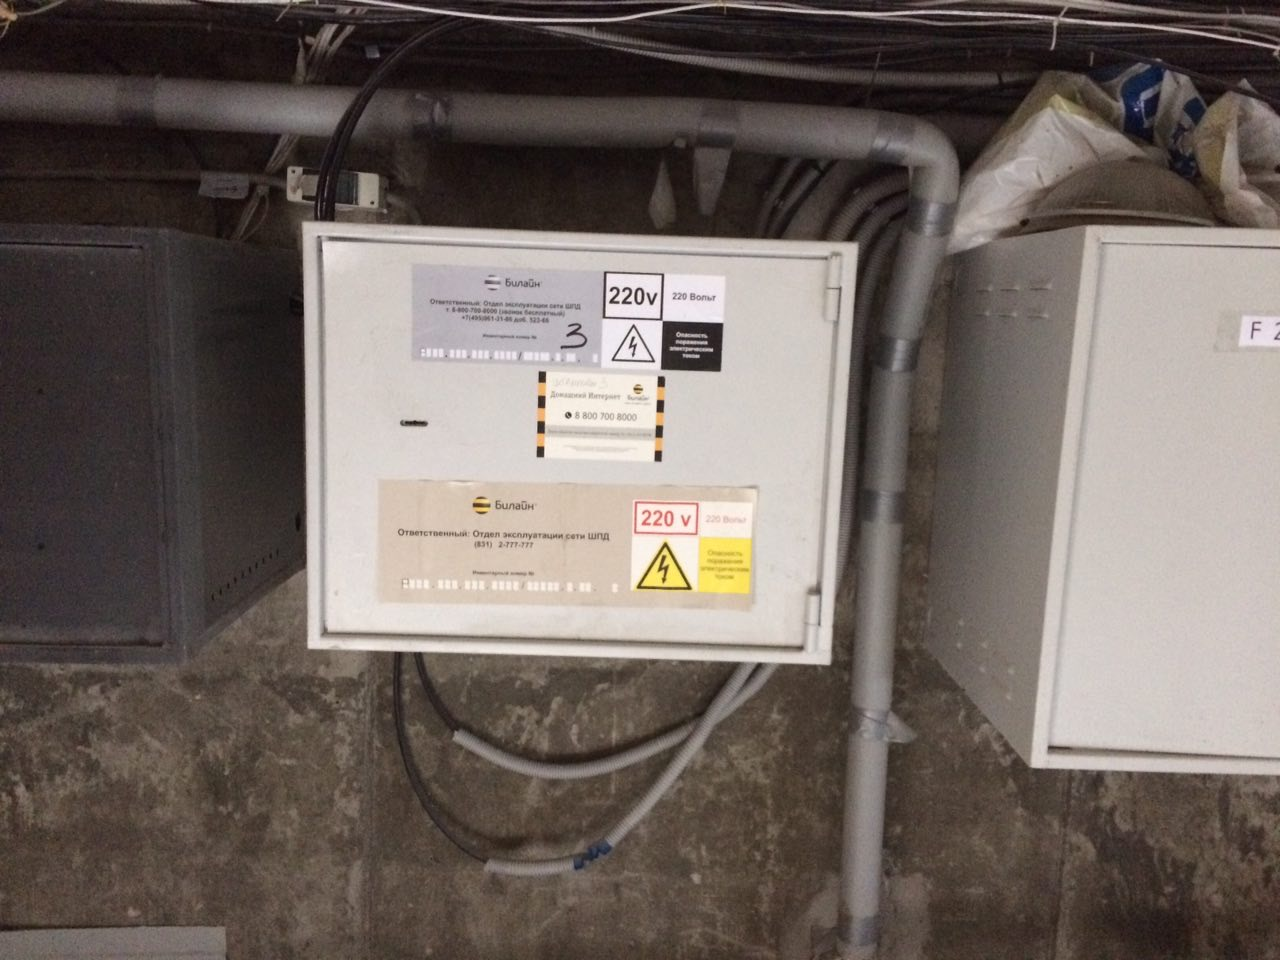shta-9m: (287, 199, 868, 676)
